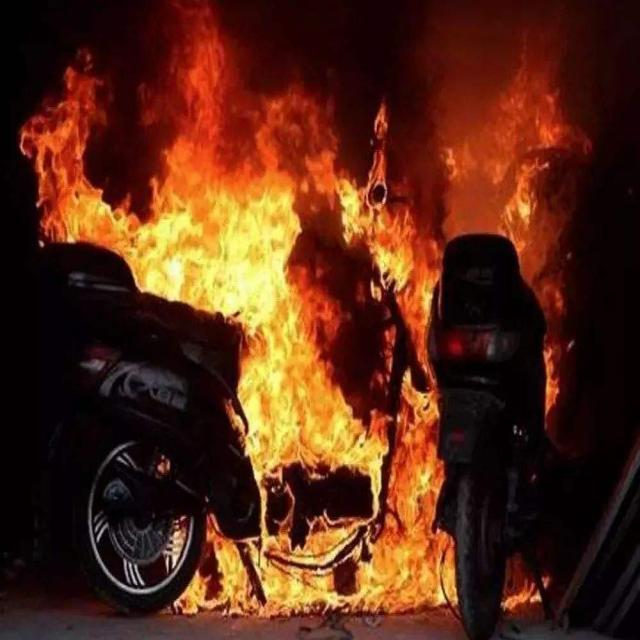Fire: (18, 3, 306, 245), (244, 311, 386, 471), (188, 524, 338, 613), (341, 503, 460, 608), (130, 244, 296, 314), (387, 348, 443, 498), (376, 208, 414, 294), (338, 170, 374, 247), (542, 346, 562, 418), (516, 168, 538, 229), (502, 582, 542, 610)
